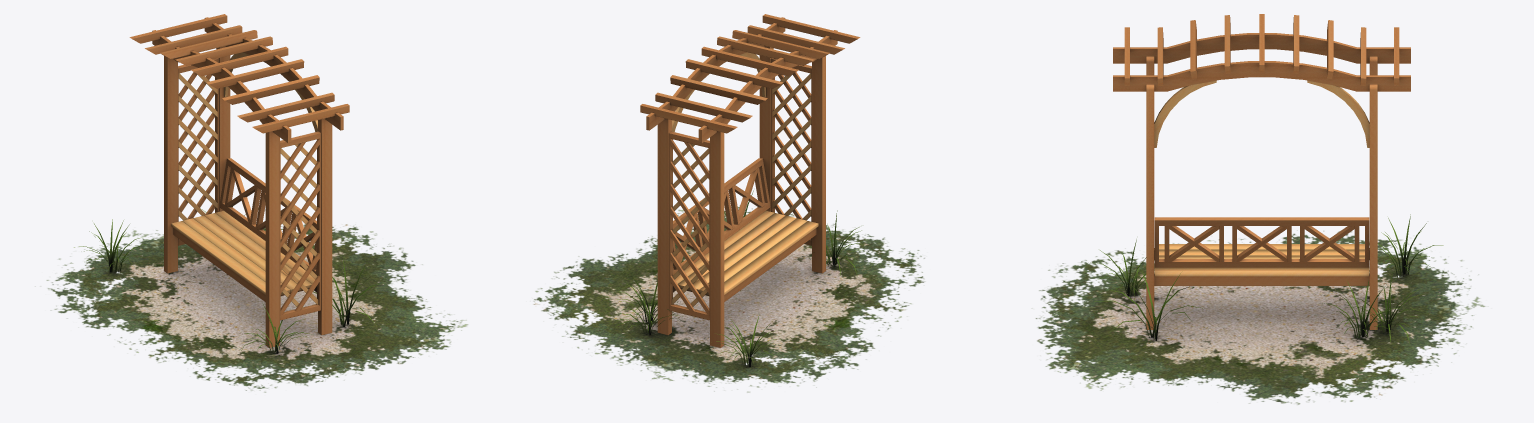
File: pergola.glb
3 renders of one model, left to right at view 1: azimuth 30°, elevation 25°; view 2: azimuth 150°, elevation 25°; view 3: azimuth 270°, elevation 25°, orthographic. The views are drawn at different scales.
Parts seen in each view (by area): view 1: Pergala_UV_ex, Ground_Unw; view 2: Pergala_UV_ex, Ground_Unw; view 3: Ground_Unw, Pergala_UV_ex.
Boxes of the visible parts, box(x1,y1,x2,y2) form: Pergala_UV_ex: box(129, 14, 349, 347); Ground_Unw: box(46, 206, 468, 392); Pergala_UV_ex: box(640, 14, 860, 347); Ground_Unw: box(533, 190, 924, 392); Ground_Unw: box(1035, 214, 1485, 404); Pergala_UV_ex: box(1113, 14, 1410, 329).
Bounding box in the file's own units: 3.35 × 2.2 × 3.8.
Materials: 2 (2 with a texture image).
